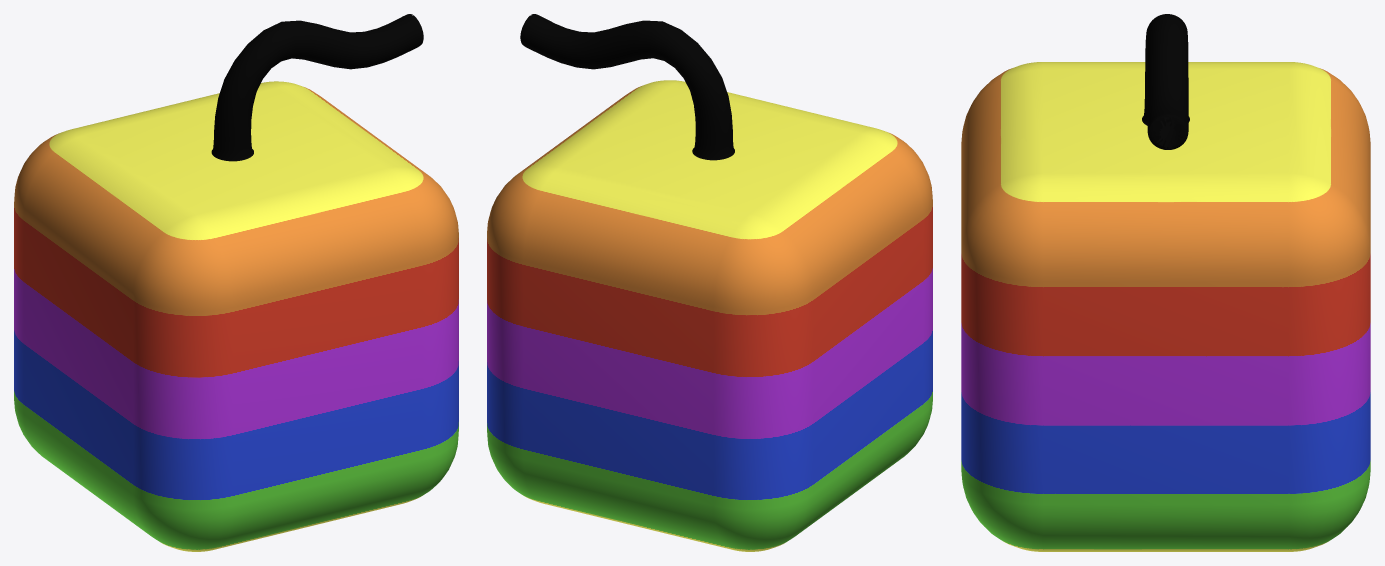
File: tnt_cube_bomd_colorful.fbx
3 views of the same model, side by side, from view 1: azimuth 30°, elevation 25°; view 2: azimuth 150°, elevation 25°; view 3: azimuth 270°, elevation 25° (orthographic). The views are drawn at different scales.
Visible parts, largest first — view 1: Cube, 16134_Cartoon_Bomb_v1_1; view 2: Cube, 16134_Cartoon_Bomb_v1_1; view 3: Cube, 16134_Cartoon_Bomb_v1_1.
Boxes of the visible parts, x1=… form: Cube: x1=14, y1=81, x2=458, y2=551; 16134_Cartoon_Bomb_v1_1: x1=211, y1=14, x2=423, y2=161; Cube: x1=487, y1=80, x2=932, y2=551; 16134_Cartoon_Bomb_v1_1: x1=520, y1=14, x2=734, y2=160; Cube: x1=961, y1=62, x2=1370, y2=551; 16134_Cartoon_Bomb_v1_1: x1=1142, y1=14, x2=1189, y2=149.
Size of the model in its own units: 221 by 278 by 206.
2 materials, 1 textured.
